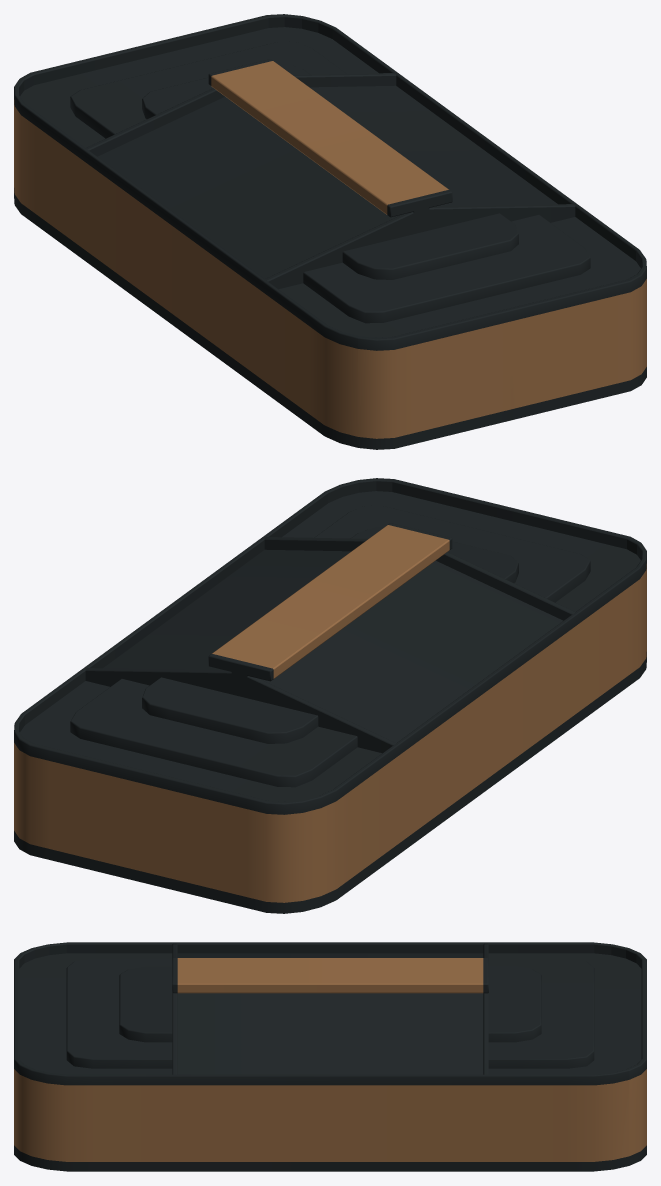
File: Produce_Bin_Short_Col.glb
3 renders of one model, top to bottom at view 1: azimuth 30°, elevation 25°; view 2: azimuth 150°, elevation 25°; view 3: azimuth 270°, elevation 25°, orthographic. The views are drawn at different scales.
Visible parts, largest first — view 1: Produce_Bin_Short_col; view 2: Produce_Bin_Short_col; view 3: Produce_Bin_Short_col.
Part boxes in pixels (box(x1,y1,x2,y2)): Produce_Bin_Short_col: box(14, 14, 646, 449); Produce_Bin_Short_col: box(14, 478, 646, 913); Produce_Bin_Short_col: box(14, 942, 646, 1171).
Bounding box in the file's own units: 3 × 1.4 × 6.
Materials: 1 (1 with a texture image).
